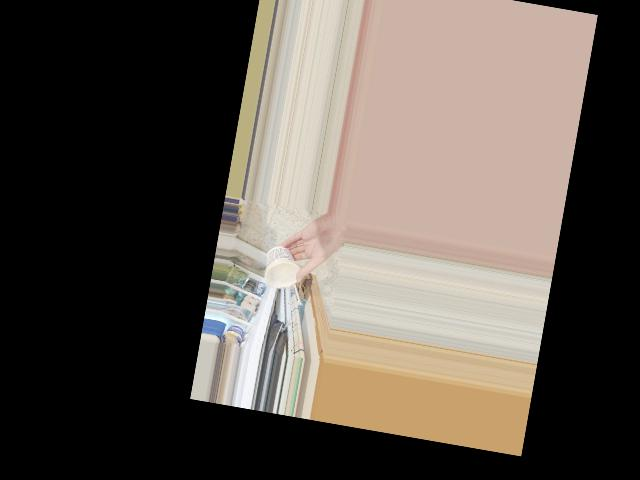cotage: (265, 243, 303, 291)
